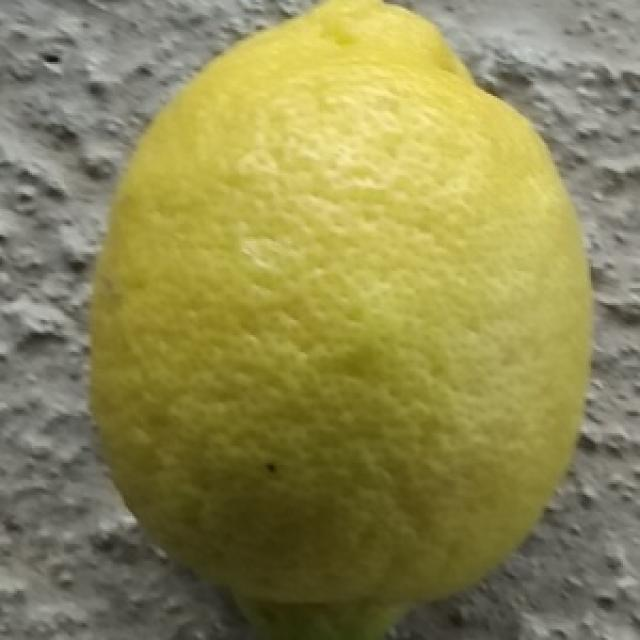Ripe: (83, 0, 602, 640)
